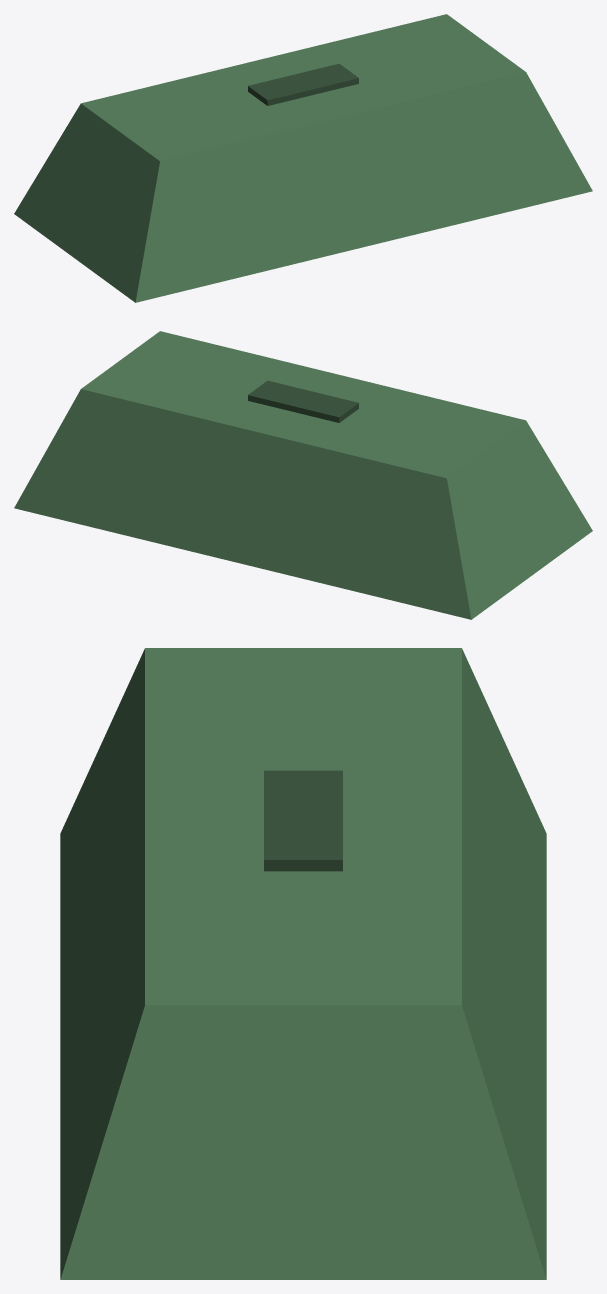
File: adamantBar.glb
The picture shows the model from 3 angles, top to bottom: view 1: azimuth 30°, elevation 25°; view 2: azimuth 150°, elevation 25°; view 3: azimuth 270°, elevation 25°; orthographic projection. The views are drawn at different scales.
Parts seen in each view (by area): view 1: adamantBar; view 2: adamantBar; view 3: adamantBar.
Boxes of the visible parts, <box> form: adamantBar: <box>14,14,592,302</box>; adamantBar: <box>14,331,592,619</box>; adamantBar: <box>60,648,546,1279</box>.
Size of the model in its own units: 1 by 0.252 by 0.46.
